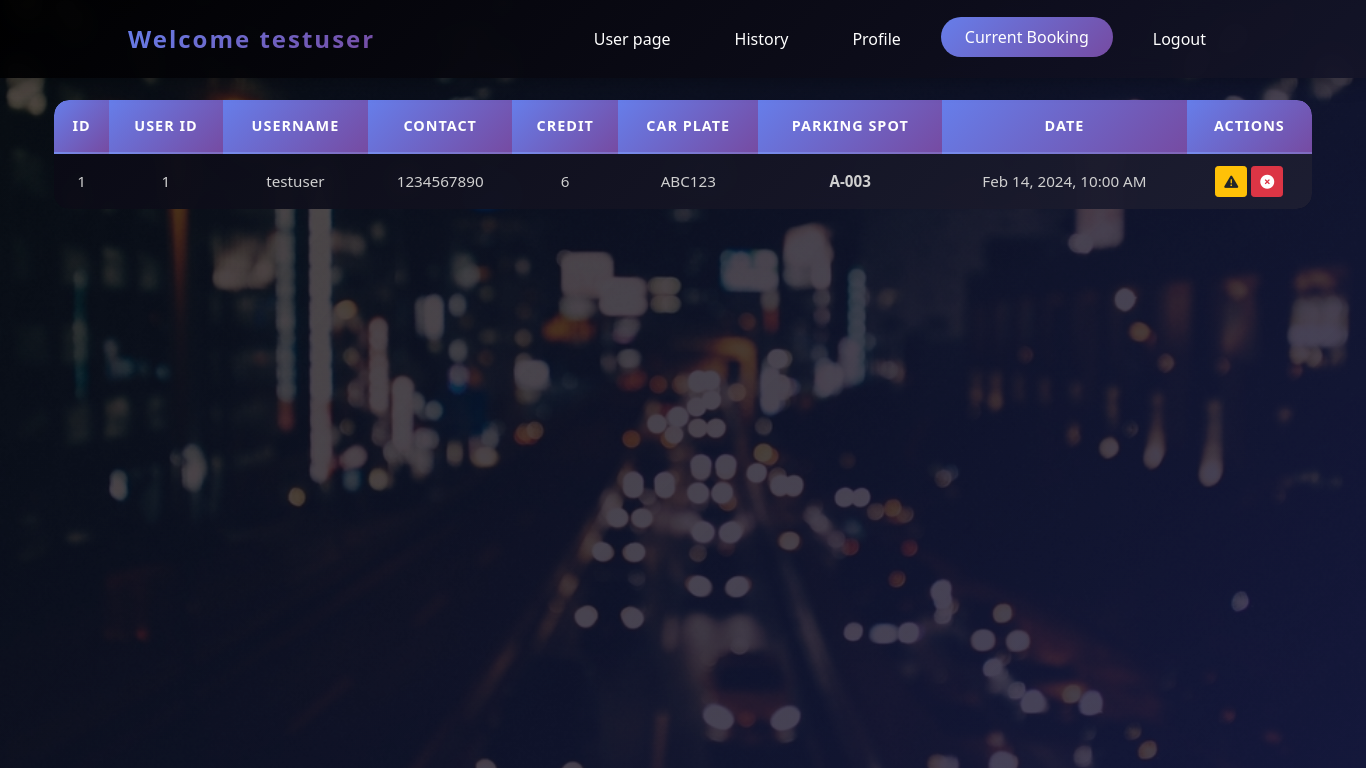
Test: CurrentBooking › should show confirmation dialog when report spot taken is clicked
Step 1. Click the button titled "Report Spot Taken" → x=1231, y=181, box [1215, 166, 1247, 197]
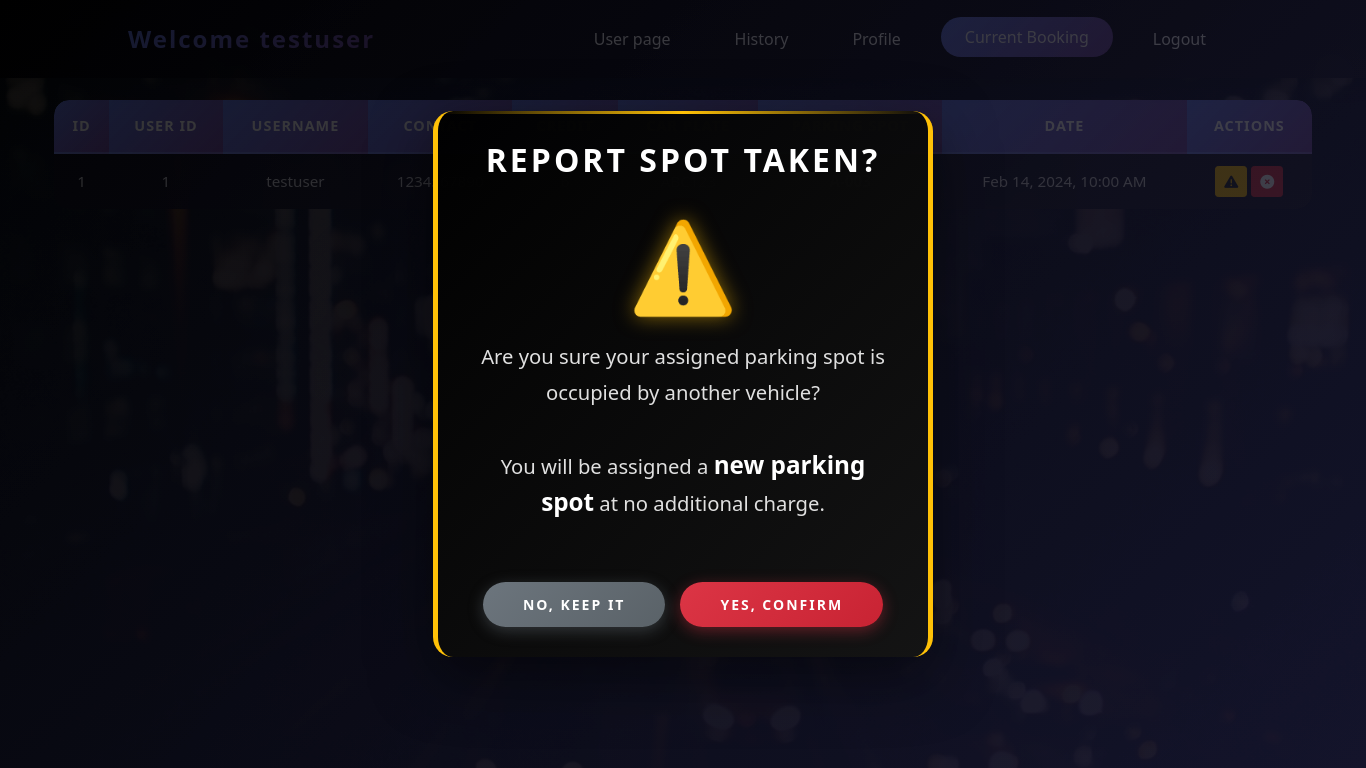
Expected: the heading "Report Spot Taken?" is shown, [478, 141, 888, 180]
